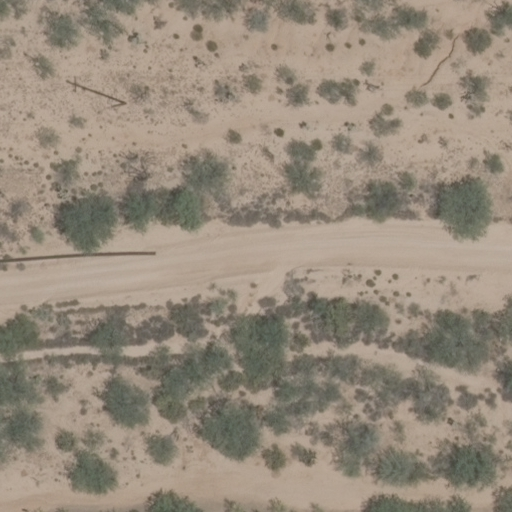DT: (61, 77, 128, 106)
